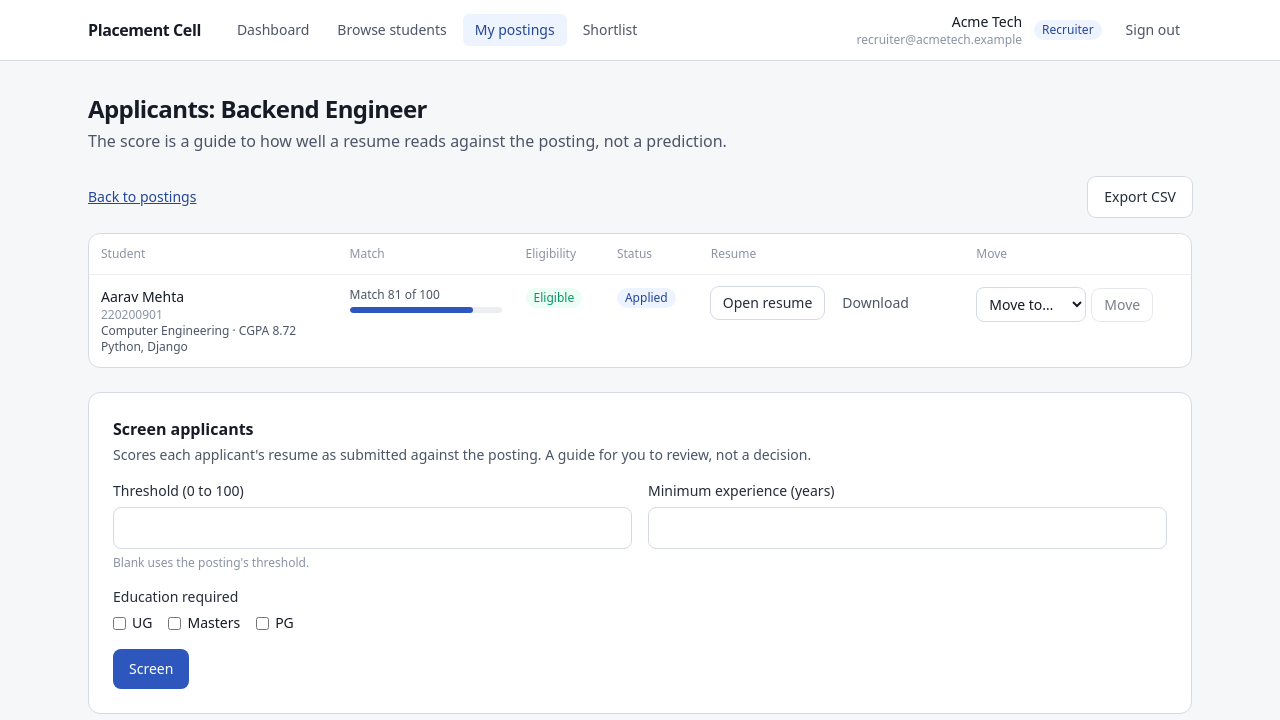
Scenario: company applicants › shows a refused move in place
expect the text "Aarav Mehta" is shown: met, box top-left (101, 287), bottom-right (184, 306)
Select "Rejected" in the dropdown named "Move Aarav Mehta to" at (1031, 304), box top-left (976, 287), bottom-right (1086, 322)
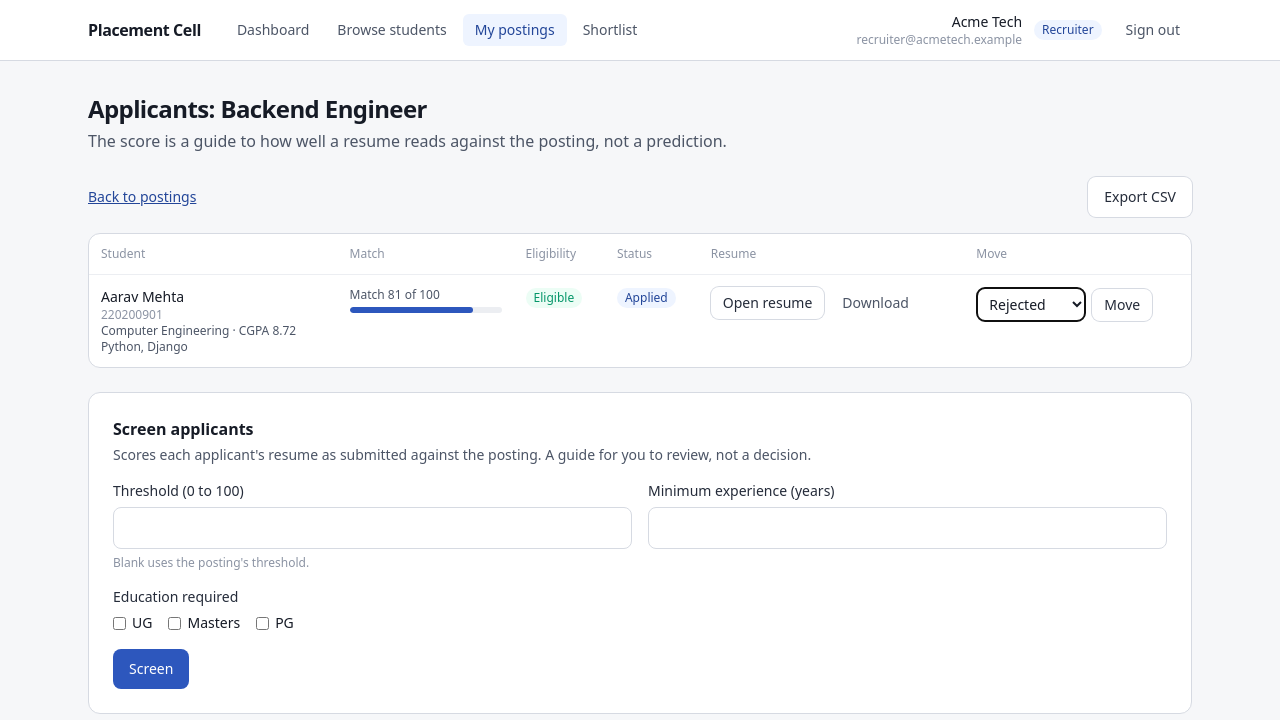
Click the button "Move" at (1122, 304), box top-left (1092, 288), bottom-right (1152, 320)
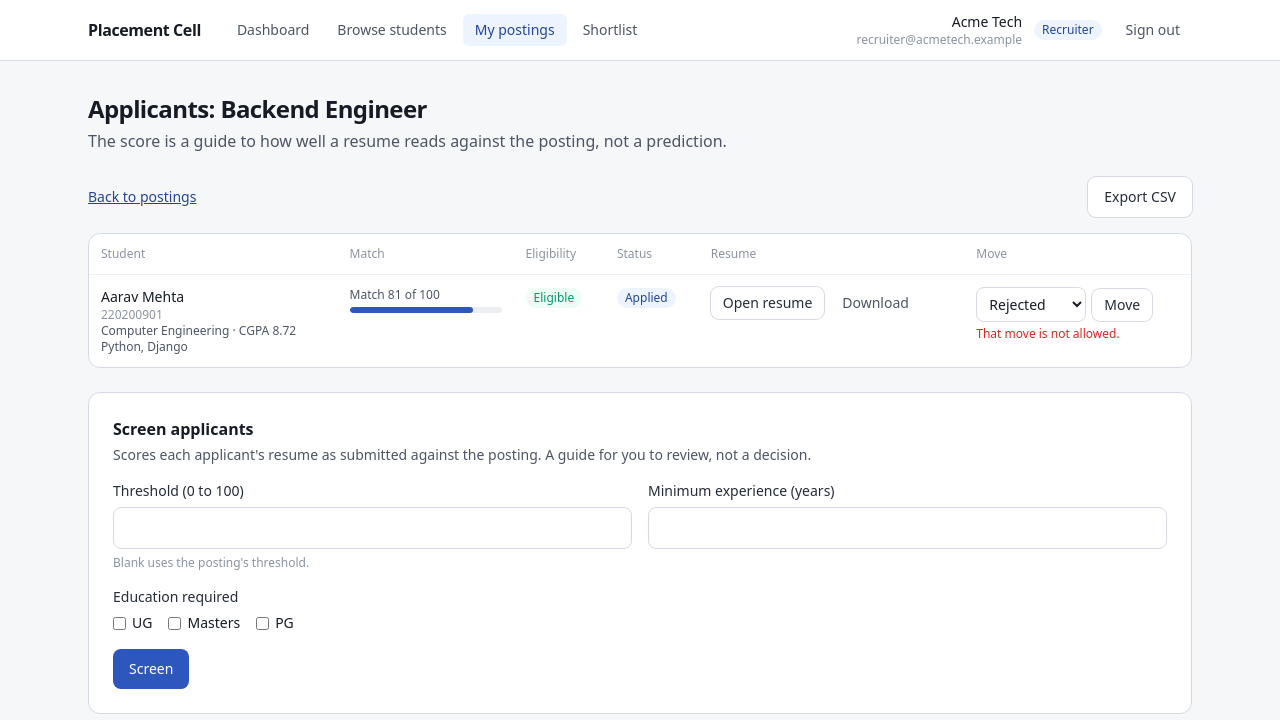
expect the text "That move is not allowed." is shown: met, box top-left (976, 325), bottom-right (1120, 342)
